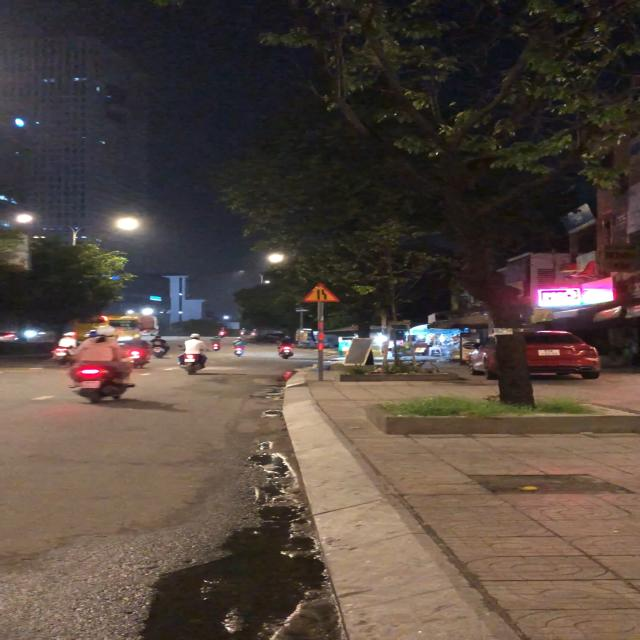Bien bao duong bi thu hep: (297, 282, 339, 304)
